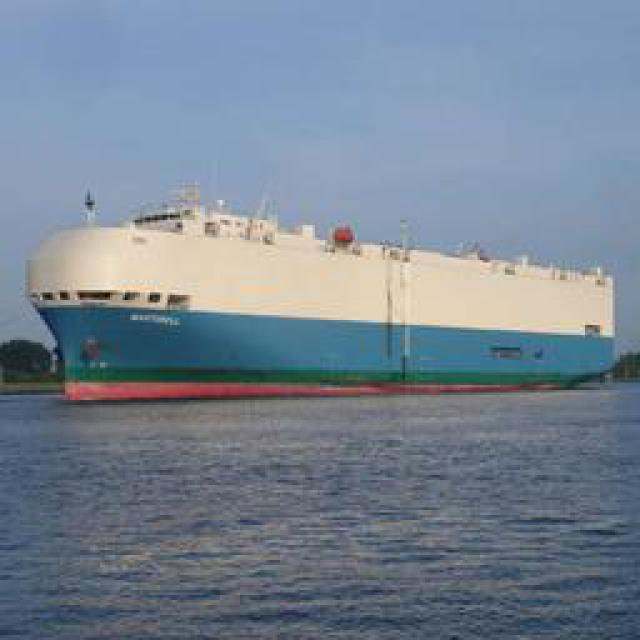Ship: (27, 205, 617, 395)
